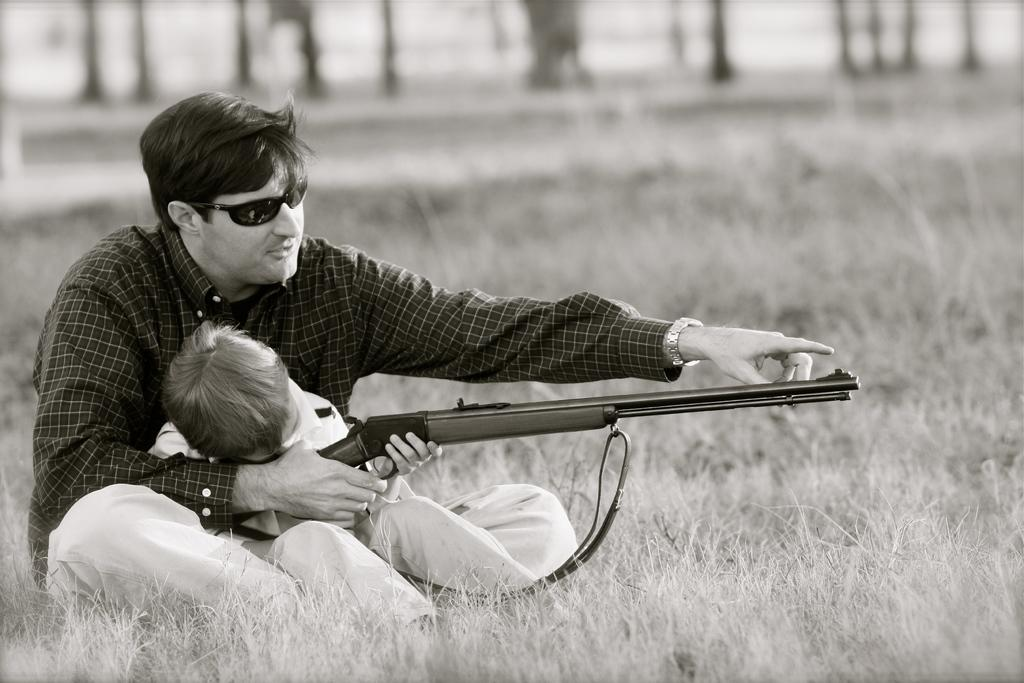Rifle: (207, 368, 856, 541)
